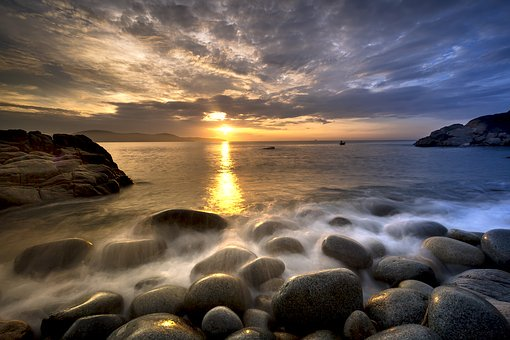sea: (18, 140, 496, 271)
sky: (10, 4, 496, 125)
stone: (209, 247, 509, 340)
